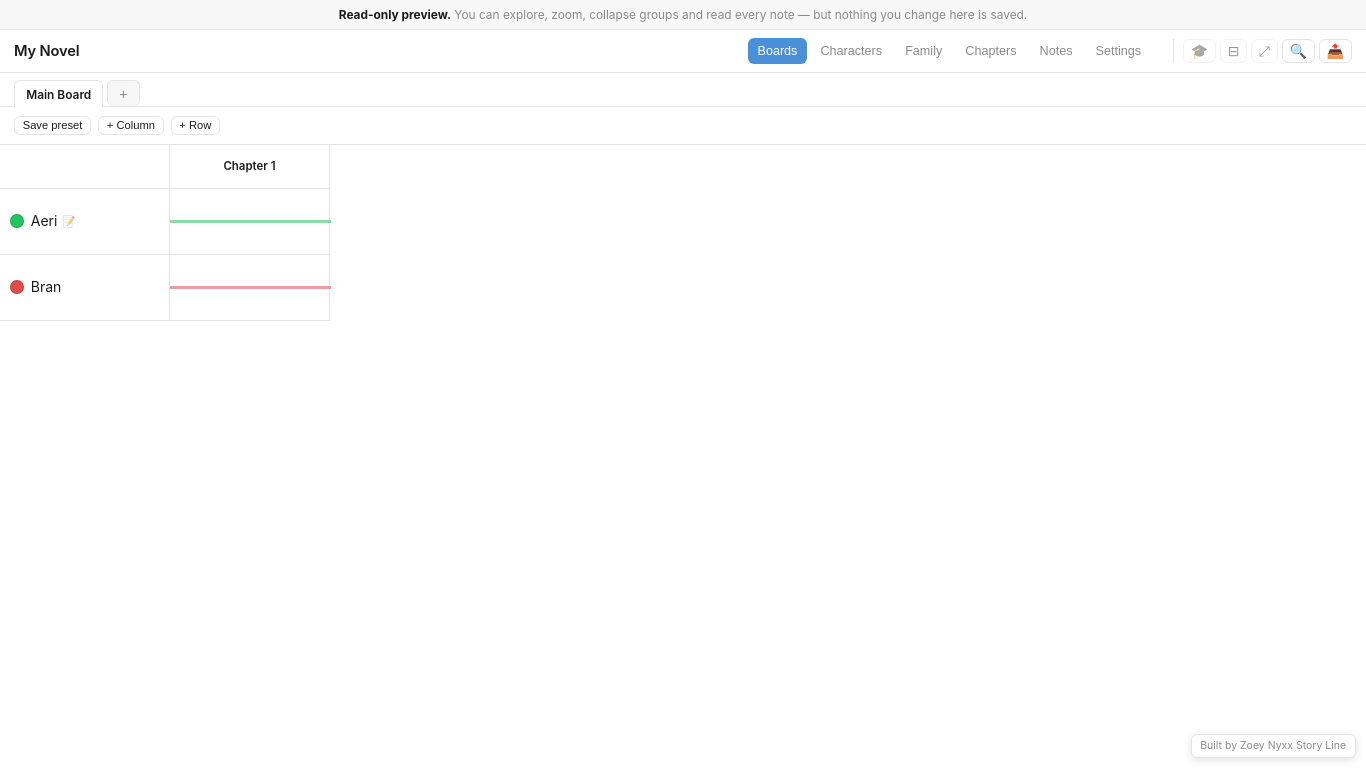
the board’s character note popup › offers no Edit in a published export
Expected: the heading "My Novel" is shown, [14,42,80,60]
Expected: the text "Bran" is shown, [31,278,61,296]
Click the button titled "Read Aeri’s note".
click(92, 221)  # box [31,212,154,230]
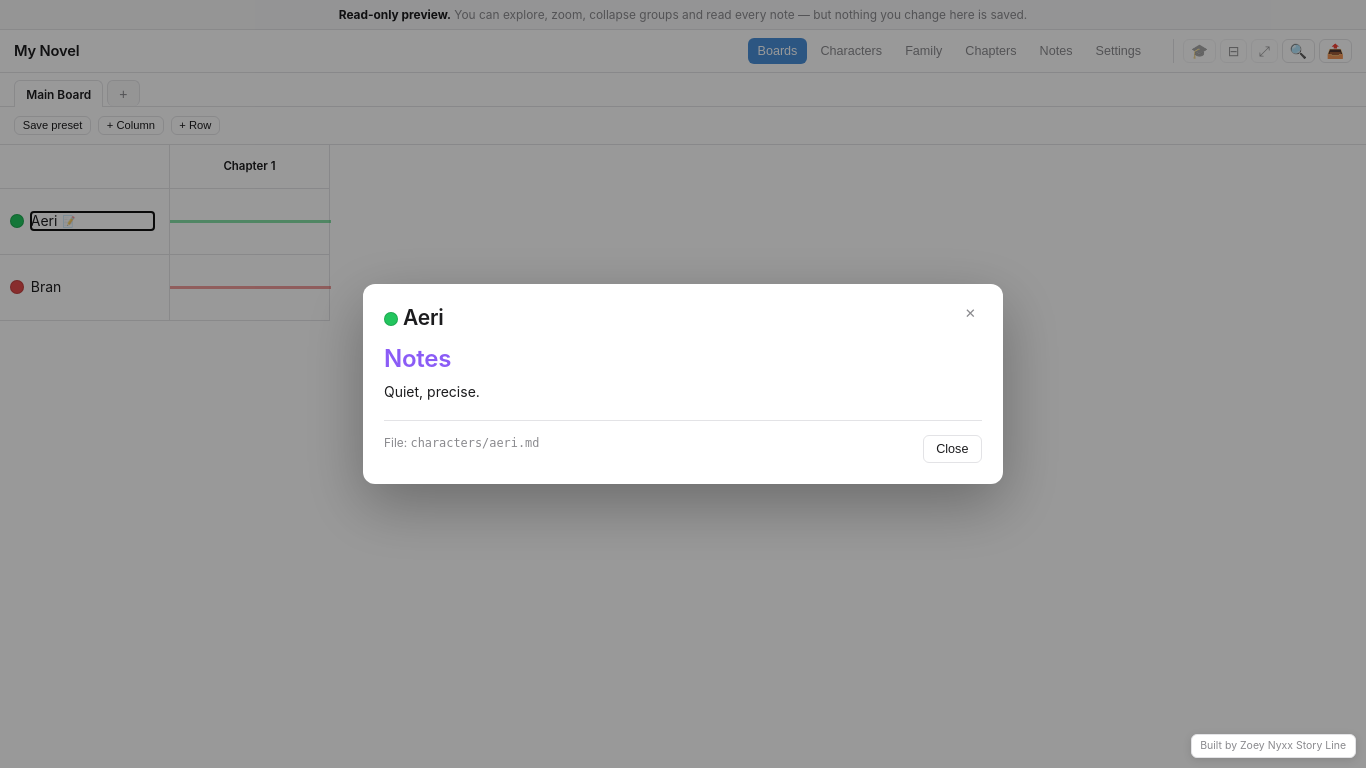
Expected: the text "Quiet, precise." is shown, [384,383,480,400]
